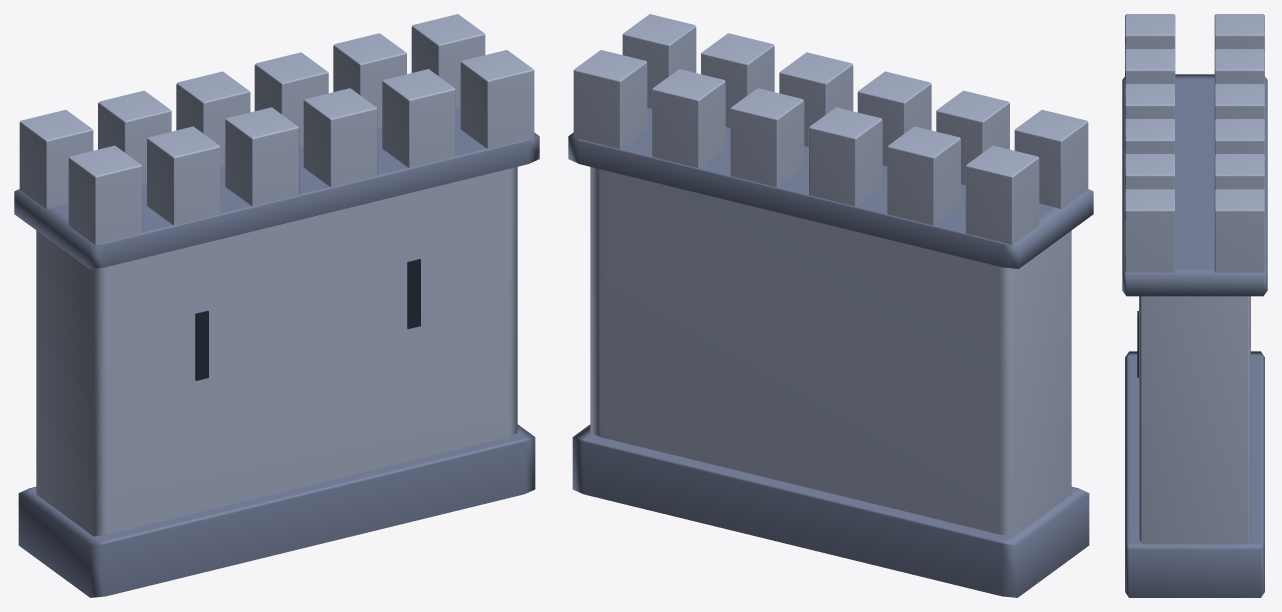
Rendered from castle_wall.glb.
3 renders of one model, left to right at view 1: azimuth 30°, elevation 25°; view 2: azimuth 150°, elevation 25°; view 3: azimuth 270°, elevation 25°, orthographic. The views are drawn at different scales.
Visible parts, largest first — view 1: Curtain masonry, Wall plinth, Wall coping, Merlon, Merlon.002, Merlon.006, Merlon.005, Merlon.004, Merlon.007, Merlon.001, Merlon.009, Merlon.003 (+5 smaller); view 2: Curtain masonry, Wall plinth, Wall coping, Merlon.001, Merlon.003, Merlon.010, Merlon.009, Merlon.008, Merlon.011, Merlon, Merlon.005, Merlon.002 (+3 smaller); view 3: Curtain masonry, Wall plinth, Wall coping, Merlon.002, Merlon.003, Merlon.007, Merlon.011, Merlon.006, Merlon.010, Merlon.005, Merlon.009, Merlon (+3 smaller).
Boxes of the visible parts, x1,y1,x2,y2 form: Curtain masonry: (36,167,517,536); Wall plinth: (18,424,535,597); Wall coping: (14,108,539,268); Merlon: (68,145,142,244); Merlon.002: (460,50,534,148); Merlon.006: (303,88,377,187); Merlon.005: (225,107,299,206); Merlon.004: (147,126,220,225); Merlon.007: (382,69,455,167); Merlon.001: (19,109,93,208); Merlon.009: (176,71,250,165); Merlon.003: (411,14,485,108); Curtain masonry: (590,167,1071,536); Wall plinth: (572,424,1089,597); Wall coping: (568,108,1093,268); Merlon.001: (965,145,1039,244); Merlon.003: (573,50,647,148); Merlon.010: (730,88,804,187); Merlon.009: (808,107,882,206); Merlon.008: (887,126,960,225); Merlon.011: (652,69,725,167); Merlon: (1014,109,1088,208); Merlon.005: (857,71,931,165); Merlon.002: (622,14,696,108); Curtain masonry: (1139,296,1250,544); Wall plinth: (1125,351,1264,597); Wall coping: (1122,74,1267,296); Merlon.002: (1125,189,1175,272); Merlon.003: (1214,189,1264,272); Merlon.007: (1125,154,1175,190); Merlon.011: (1214,154,1264,190); Merlon.006: (1125,119,1175,155); Merlon.010: (1214,119,1264,155); Merlon.005: (1125,84,1175,120); Merlon.009: (1214,84,1264,120); Merlon: (1125,14,1175,49).
Size of the model in its own units: 4.25 by 3.82 by 1.3.
